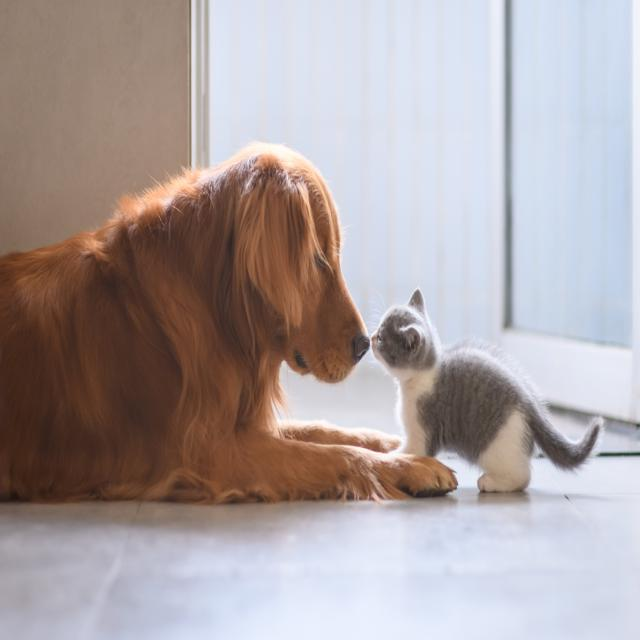cat: (368, 282, 604, 502)
dog: (1, 128, 375, 508)
